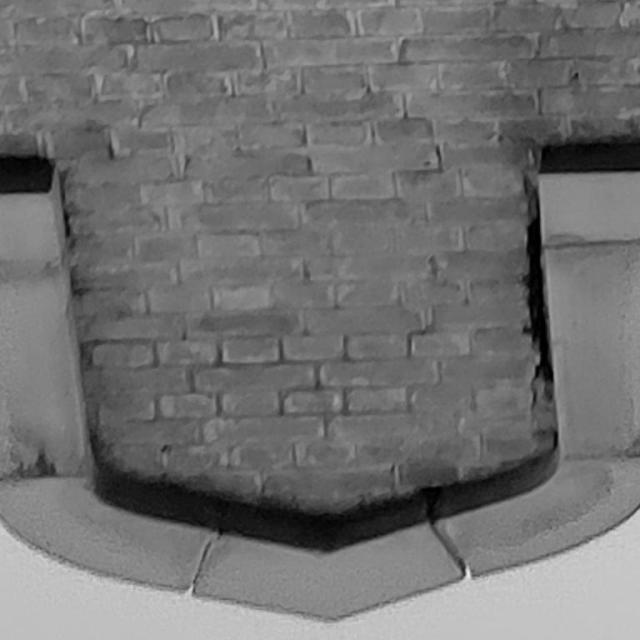crack: (523, 172, 554, 422)
